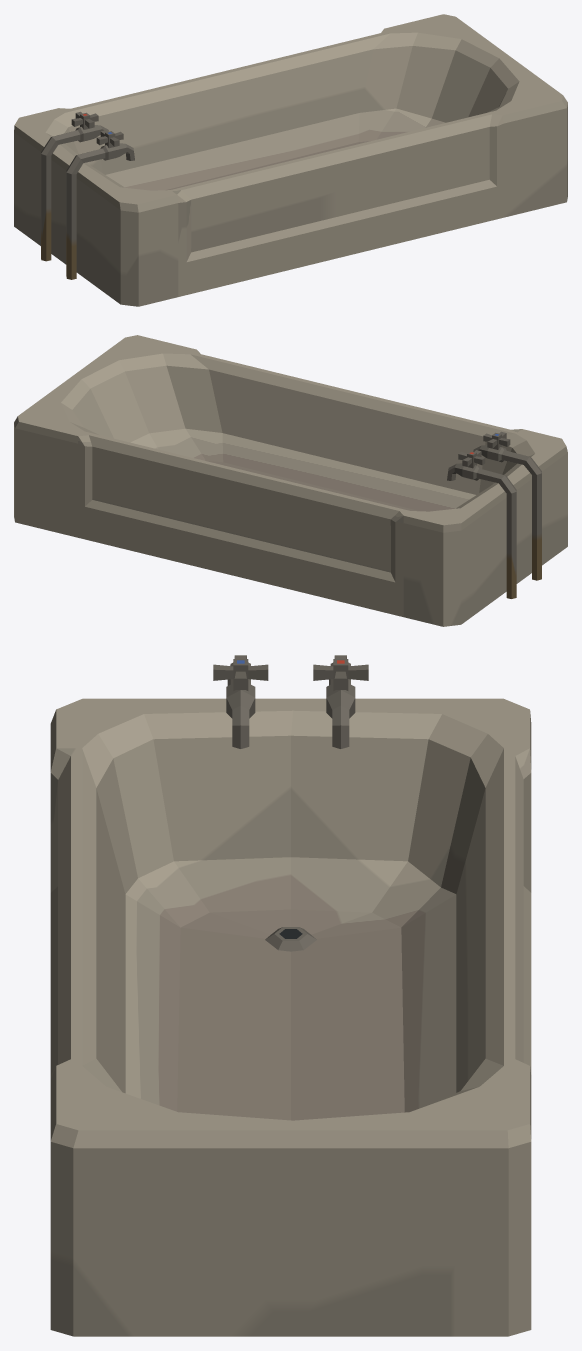
Rendered from SM_Prop_Bath_01.glb.
3 views of the same model, one above another, from view 1: azimuth 30°, elevation 25°; view 2: azimuth 150°, elevation 25°; view 3: azimuth 270°, elevation 25° (orthographic). The views are drawn at different scales.
Parts seen in each view (by area): view 1: SM_Prop_Bath_01; view 2: SM_Prop_Bath_01; view 3: SM_Prop_Bath_01.
Boxes of the visible parts, x1,y1,x2,y2 form: SM_Prop_Bath_01: [14, 14, 567, 306]; SM_Prop_Bath_01: [14, 335, 567, 626]; SM_Prop_Bath_01: [50, 655, 531, 1336].
Size of the model in its own units: 2.41 by 0.6715 by 1.09.
1 material, 1 textured.
